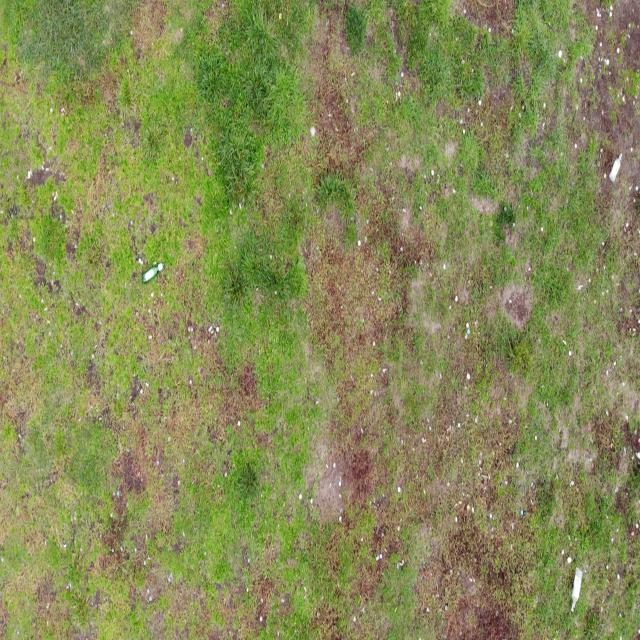rubbish: (571, 565, 584, 615), (142, 262, 165, 284), (607, 151, 622, 183)
